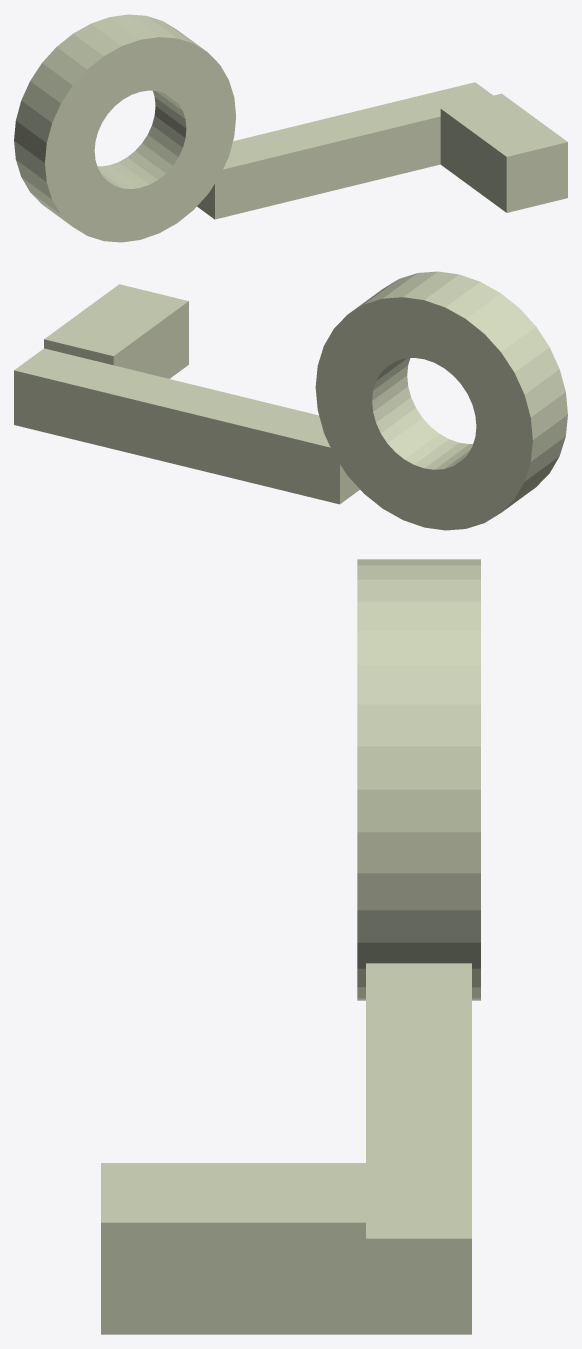
File: cle.glb
3 views of the same model, one above another, from view 1: azimuth 30°, elevation 25°; view 2: azimuth 150°, elevation 25°; view 3: azimuth 270°, elevation 25° (orthographic). The views are drawn at different scales.
Visible parts, largest first — view 1: laiton; view 2: laiton; view 3: laiton.
Part boxes in pixels (x1,y1,x2,y2): laiton: [14, 14, 567, 242]; laiton: [14, 271, 567, 530]; laiton: [101, 559, 480, 1334].
Size of the model in its own units: 0.12 by 0.05 by 0.043.
